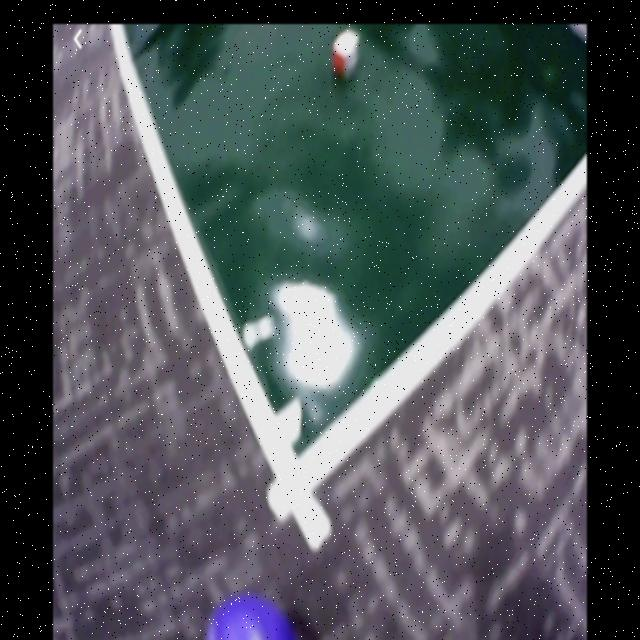ball: (206, 593, 296, 640)
